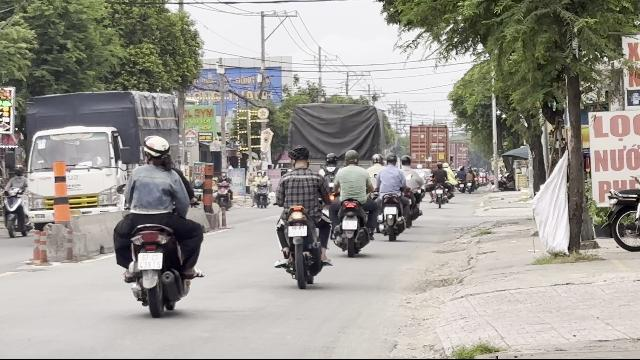helmet: (142, 135, 170, 165), (290, 144, 310, 168), (343, 150, 359, 164)
licenseplate: (138, 253, 162, 269), (288, 226, 308, 236), (342, 221, 358, 229)
motorcyclist: (111, 134, 205, 316), (272, 144, 332, 286), (328, 148, 376, 256)
